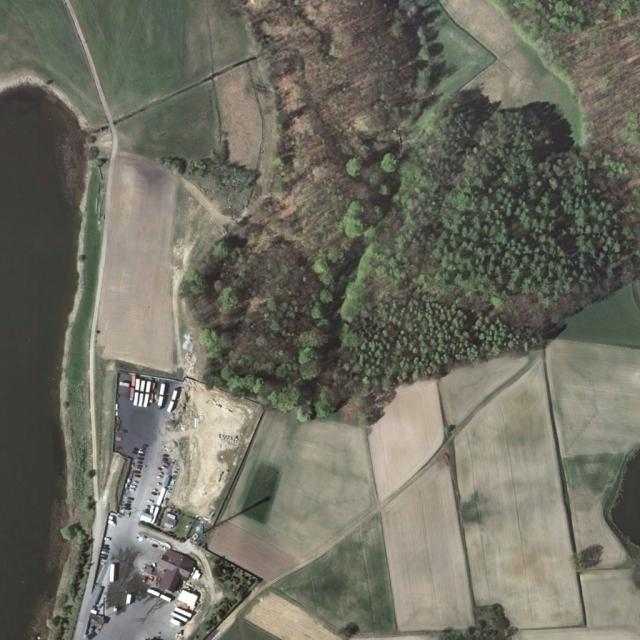agricultural_land: (441, 370, 582, 638), (412, 0, 602, 175), (374, 454, 475, 637), (379, 456, 458, 631), (470, 517, 583, 639), (422, 326, 533, 430), (399, 10, 497, 108), (580, 569, 640, 632)
building: (72, 367, 276, 640)
dryland: (339, 366, 469, 510)
greenland: (0, 86, 85, 639), (273, 513, 439, 640), (558, 276, 640, 348), (240, 460, 283, 525), (219, 619, 280, 639)
wetland: (0, 86, 85, 639)
